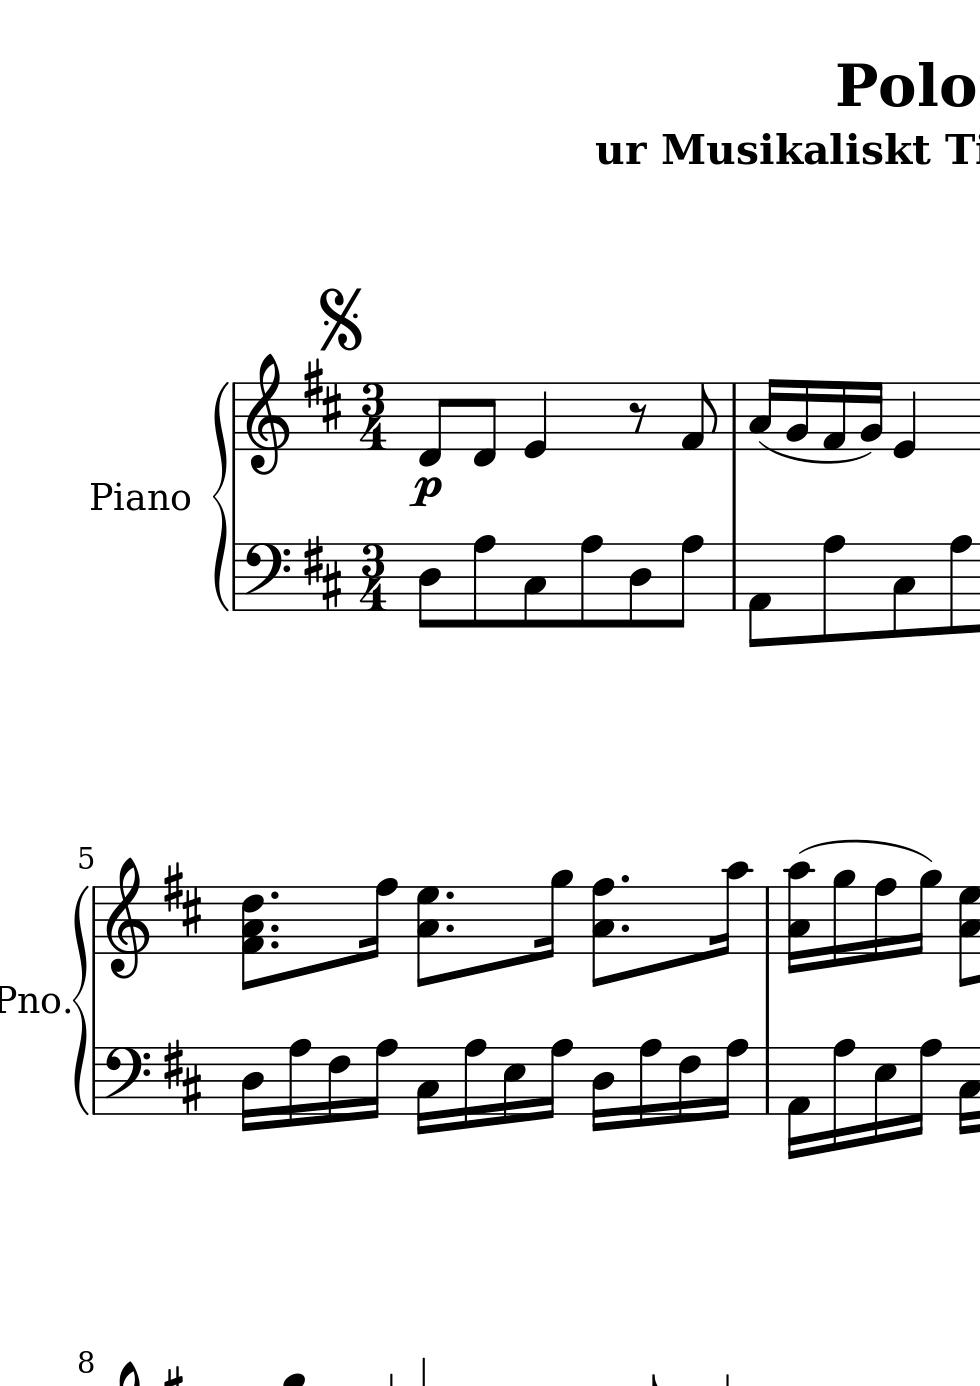16_1: (786, 1046, 810, 1161), (820, 379, 847, 452)
16_10: (714, 862, 749, 962)
16_2: (784, 378, 810, 451), (859, 380, 883, 450)
16_3: (747, 376, 778, 450), (414, 1046, 438, 1137)
16_3_10: (784, 860, 816, 975)
16_4: (589, 1045, 614, 1133), (239, 1046, 263, 1131)
16_5: (872, 1043, 896, 1145), (955, 1047, 980, 1137), (500, 1045, 526, 1125)
16_6: (325, 1045, 350, 1125), (676, 1043, 701, 1124)
16_8: (906, 1037, 942, 1139), (829, 1037, 855, 1152), (538, 1037, 572, 1121), (362, 876, 395, 960), (364, 1037, 397, 1121), (714, 1038, 747, 1120), (461, 1037, 486, 1131), (286, 1037, 310, 1129), (637, 1037, 661, 1129), (873, 877, 896, 962)
16_9: (537, 867, 572, 962), (910, 867, 942, 957), (832, 869, 854, 968)
3: (358, 381, 387, 420), (358, 542, 386, 578)
4: (358, 416, 388, 450), (358, 578, 388, 611)
4_0: (521, 381, 548, 461), (890, 381, 917, 461)
5: (77, 843, 94, 871)
8: (76, 1348, 95, 1375)
8_-1: (415, 381, 449, 469), (470, 380, 498, 469)
8_1: (746, 542, 771, 651), (678, 382, 718, 451)
8_3: (889, 541, 916, 641), (520, 542, 547, 630)
8_3_7: (415, 885, 442, 989), (957, 883, 980, 988)
8_3_8: (590, 877, 616, 992)
8_4: (416, 542, 442, 631), (627, 541, 652, 630)
8_8: (667, 533, 701, 631), (573, 532, 603, 631), (819, 533, 845, 647), (944, 532, 972, 638), (467, 533, 495, 630)
Brace: (209, 380, 231, 608), (73, 883, 90, 1115)
D_S: (301, 534, 343, 610), (302, 355, 342, 434), (163, 859, 202, 938), (162, 1039, 203, 1115)
Fclef: (241, 540, 290, 612), (101, 1045, 148, 1116)
Gclef: (104, 855, 148, 980), (244, 351, 288, 475)
Pno: (87, 478, 190, 510), (1, 981, 62, 1020)
Rests8: (627, 400, 648, 435)
Segno: (311, 284, 368, 350)
Single_barline: (725, 382, 742, 451), (725, 544, 742, 610), (759, 1047, 775, 1115), (760, 887, 775, 955), (228, 382, 242, 450), (228, 544, 241, 611), (88, 888, 101, 954), (89, 1048, 101, 1115)
Slur: (798, 840, 930, 863), (757, 441, 870, 464)
TimeSig: (357, 382, 389, 451), (357, 542, 388, 612)
dot: (266, 887, 281, 902), (443, 888, 456, 903), (443, 920, 456, 936), (617, 872, 631, 885), (267, 920, 280, 935), (618, 920, 631, 935), (267, 938, 281, 951)
p: (407, 475, 443, 511)
